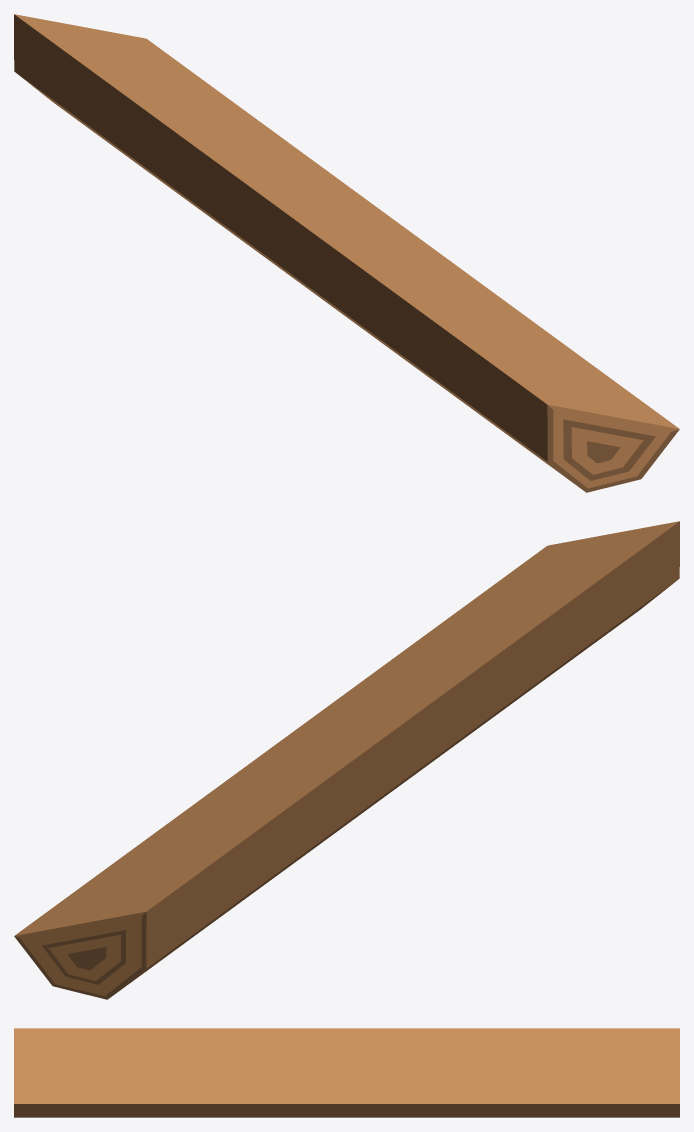
File: Beam_2_mat.fbx
The picture shows the model from 3 angles, top to bottom: view 1: azimuth 30°, elevation 25°; view 2: azimuth 150°, elevation 25°; view 3: azimuth 270°, elevation 25°; orthographic projection. The views are drawn at different scales.
Parts seen in each view (by area): view 1: Beam_2_mat; view 2: Beam_2_mat; view 3: Beam_2_mat.
Part boxes in pixels (x1,y1,x2,y2): Beam_2_mat: [14, 14, 679, 492]; Beam_2_mat: [14, 521, 679, 999]; Beam_2_mat: [14, 1028, 679, 1117].
Size of the model in its own units: 0.3476 by 0.245 by 2.42.
